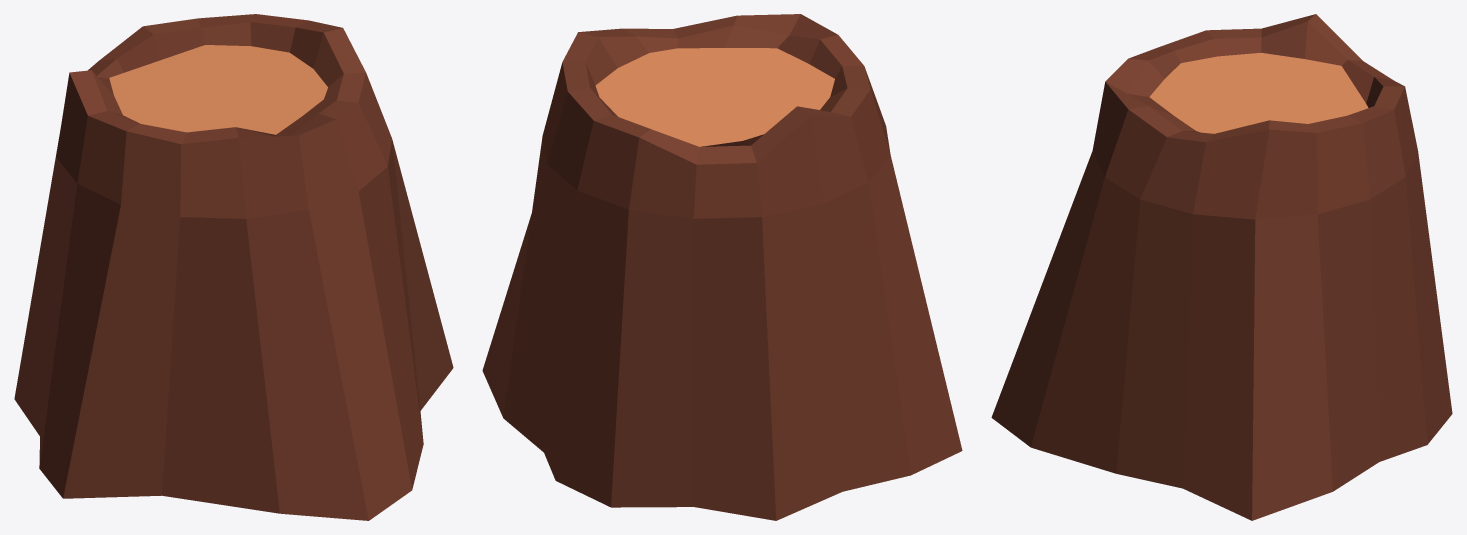
The model's file is pine_trunk_type_1_LOD0.fbx.
3 views of the same model, side by side, from view 1: azimuth 30°, elevation 25°; view 2: azimuth 150°, elevation 25°; view 3: azimuth 270°, elevation 25° (orthographic). The views are drawn at different scales.
Parts seen in each view (by area): view 1: pine_trunk; view 2: pine_trunk; view 3: pine_trunk.
Part boxes in pixels (<box>): pine_trunk: <box>14,14,453,520</box>; pine_trunk: <box>482,14,962,520</box>; pine_trunk: <box>991,14,1452,520</box>.
Bounding box in the file's own units: 136 × 109 × 132.
